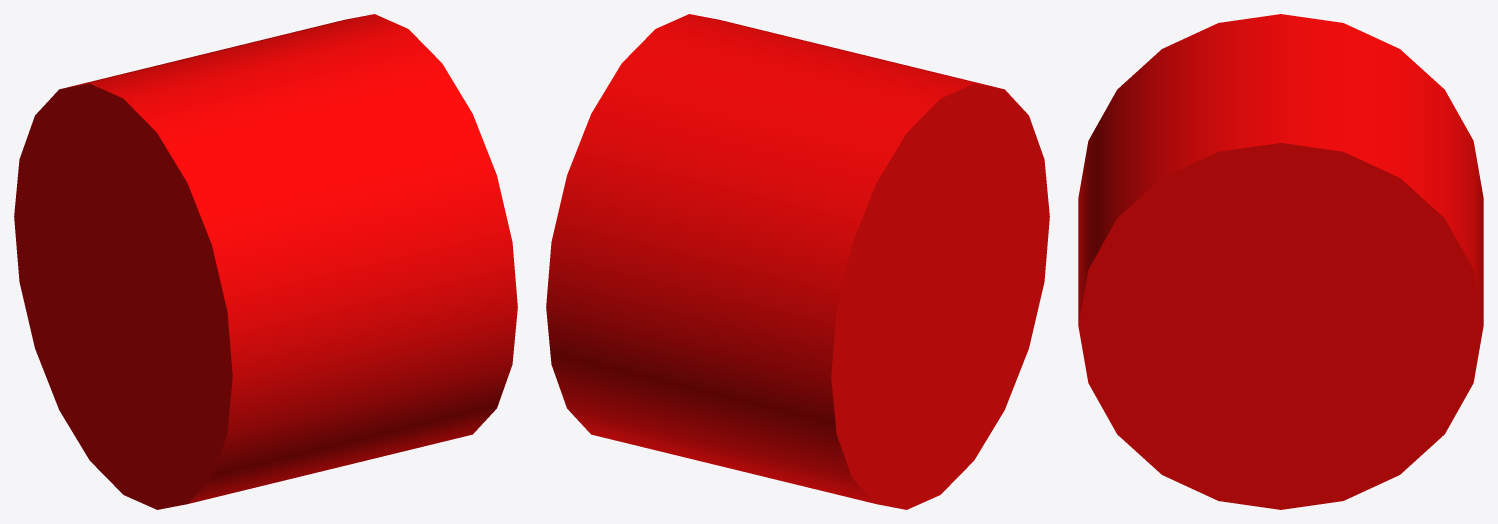
File: Resaltado_Auriculotemporal_D_3.obj
3 views of the same model, side by side, from view 1: azimuth 30°, elevation 25°; view 2: azimuth 150°, elevation 25°; view 3: azimuth 270°, elevation 25° (orthographic). The views are drawn at different scales.
Visible parts, largest first — view 1: polySurface10 Marcadores1; view 2: polySurface10 Marcadores1; view 3: polySurface10 Marcadores1.
Boxes of the visible parts, left/top/right/bottom form: polySurface10 Marcadores1: left=14, top=14, right=517, bottom=509; polySurface10 Marcadores1: left=546, top=14, right=1049, bottom=509; polySurface10 Marcadores1: left=1078, top=14, right=1483, bottom=509.
Size of the model in its own units: 0.021 by 0.0279 by 0.0279.
